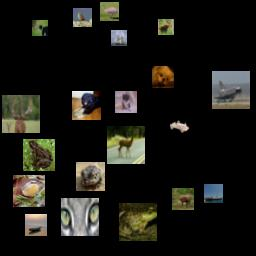airplane: (212, 71, 250, 109)
automobile: (170, 116, 189, 135)
bird: (13, 175, 45, 207), (73, 8, 92, 27), (100, 2, 119, 21)
cat: (61, 198, 99, 236), (115, 91, 137, 113), (32, 20, 48, 36)
deer: (2, 95, 40, 133), (107, 126, 145, 164), (172, 188, 194, 210), (158, 19, 174, 35)
dog: (72, 91, 101, 120), (152, 66, 174, 88)
frog: (119, 203, 157, 241), (23, 139, 55, 171), (76, 162, 105, 191)
ship: (25, 214, 47, 236), (204, 184, 223, 203), (111, 30, 127, 46)
